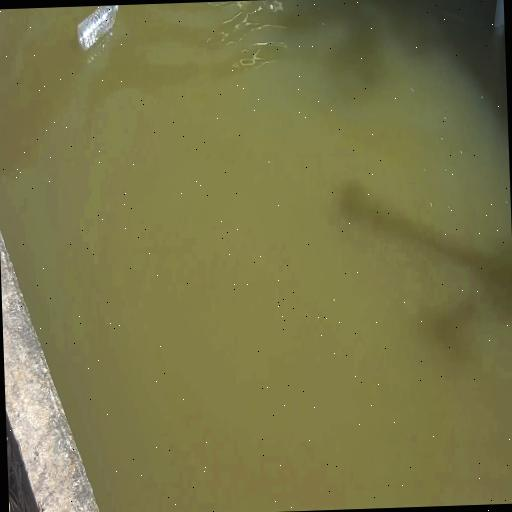plastic: (75, 4, 121, 52)
